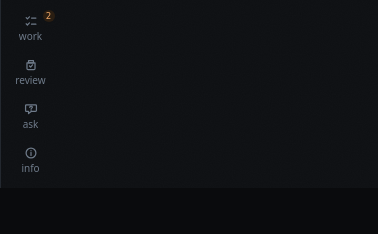
it: desktop InspectorRail › shows four labelled groups and opens one pane at a time (issues #48, #75, #940)
Expected: the button "review" is shown, [4,52,56,92]
Expected: the button "ask" is shown, [4,96,56,136]
# Pressing a group opens its pane beside the strip, on its first member.
Click the button "work 2" at (30, 28), box [4,8,56,48]
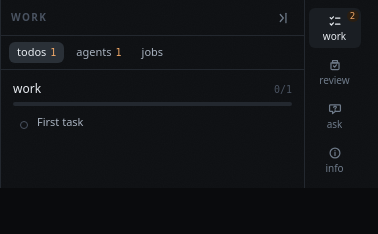
Expected: the text "First task" is shown, [37,114,84,128]
# A member tab swaps the pane within the group.
Click the tab "agents 1" at (99, 52), box [68,42,130,62]
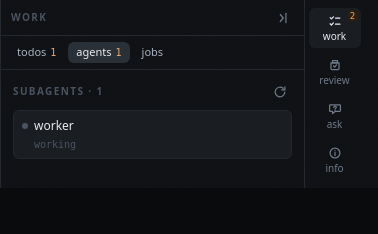
Expected: the text "worker" is shown, [34,116,74,134]
Expected: the text "First task" is gone
Click the button "review" at (334, 72), box [308,52,360,92]
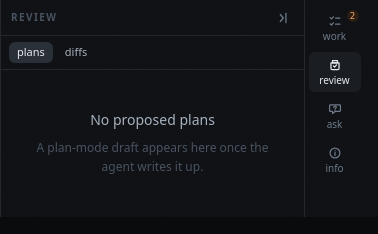
Click the button "work 2" at (334, 28), box [308,8,360,48]
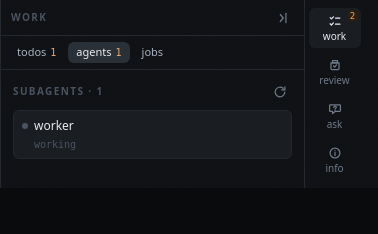
# Re-pressing the active group dismisses the pane back to the strip alone.
Click the button "work 2" at (334, 28), box [308,8,360,48]
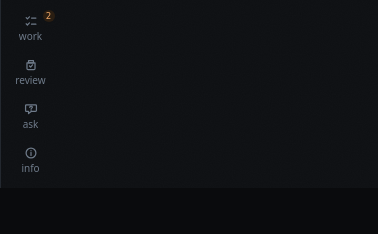
Expected: the text "worker" is gone
